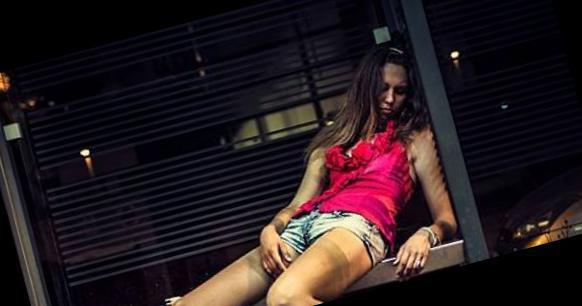Drunk: (372, 67, 409, 117)
